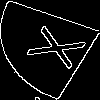X: (25, 25, 99, 75)
